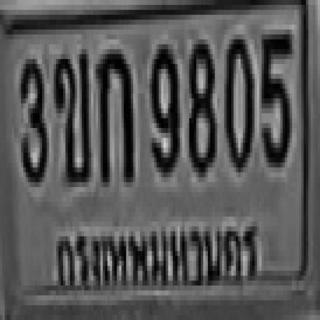A01: (96, 44, 131, 182)
A02: (51, 49, 89, 182)
N00: (224, 34, 252, 168)
N03: (19, 54, 47, 182)
N05: (259, 29, 290, 162)
N08: (188, 35, 214, 172)
N09: (150, 39, 178, 172)
P04: (50, 213, 267, 296)
